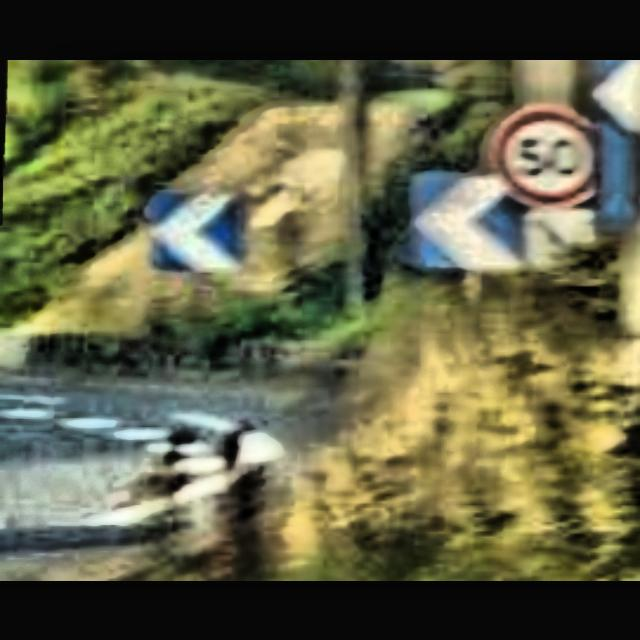speed_50: (504, 109, 598, 201)
